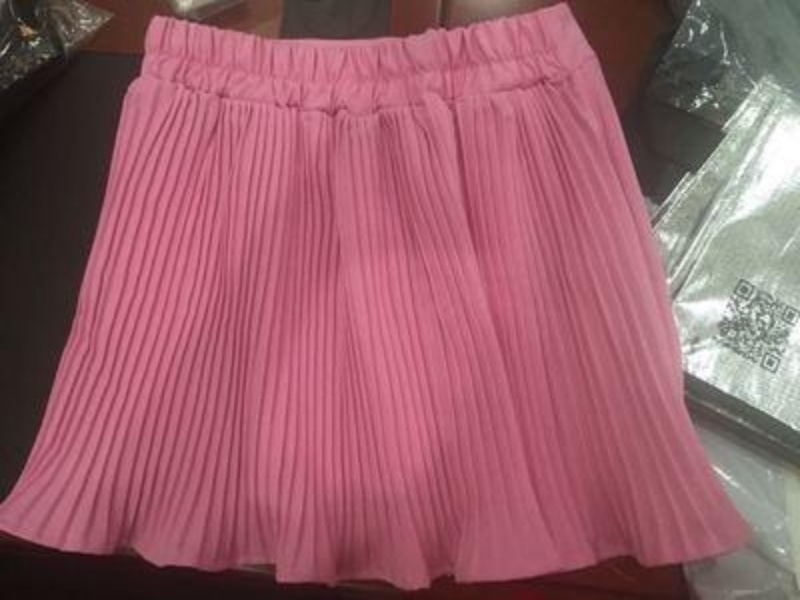skirt: (2, 2, 758, 592)
